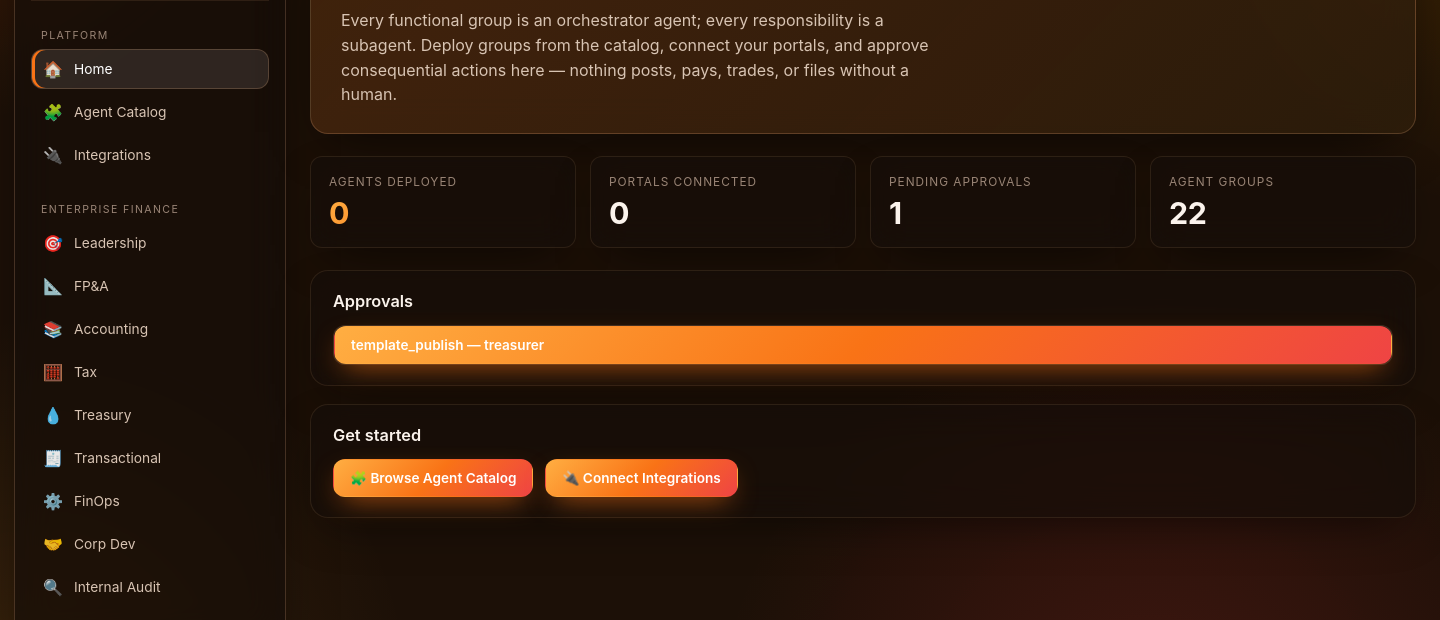
App shell › navigates to the FP&A and Trading dashboards and back home
Click the button "📐 FP&A" at (150, 286), box [31,266,269,306]
(page scrolled)
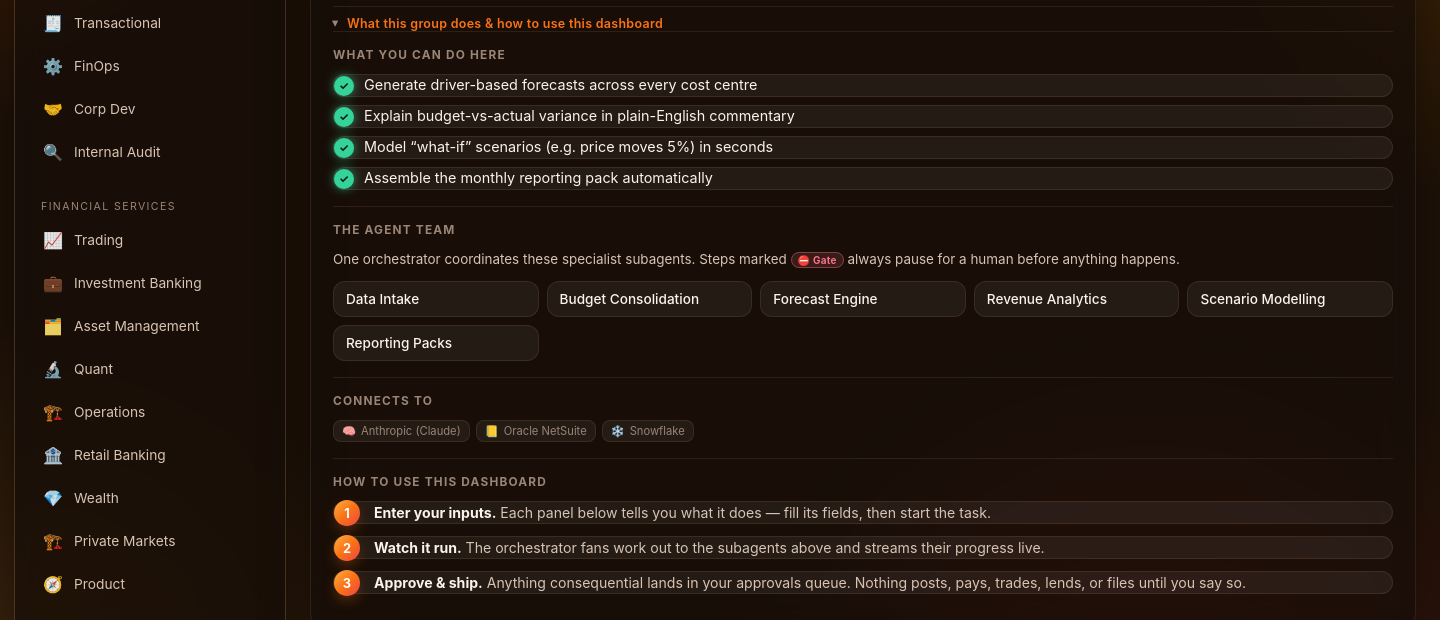
Click the button "📈 Trading" at (150, 240), box [31,220,269,260]
(page scrolled)
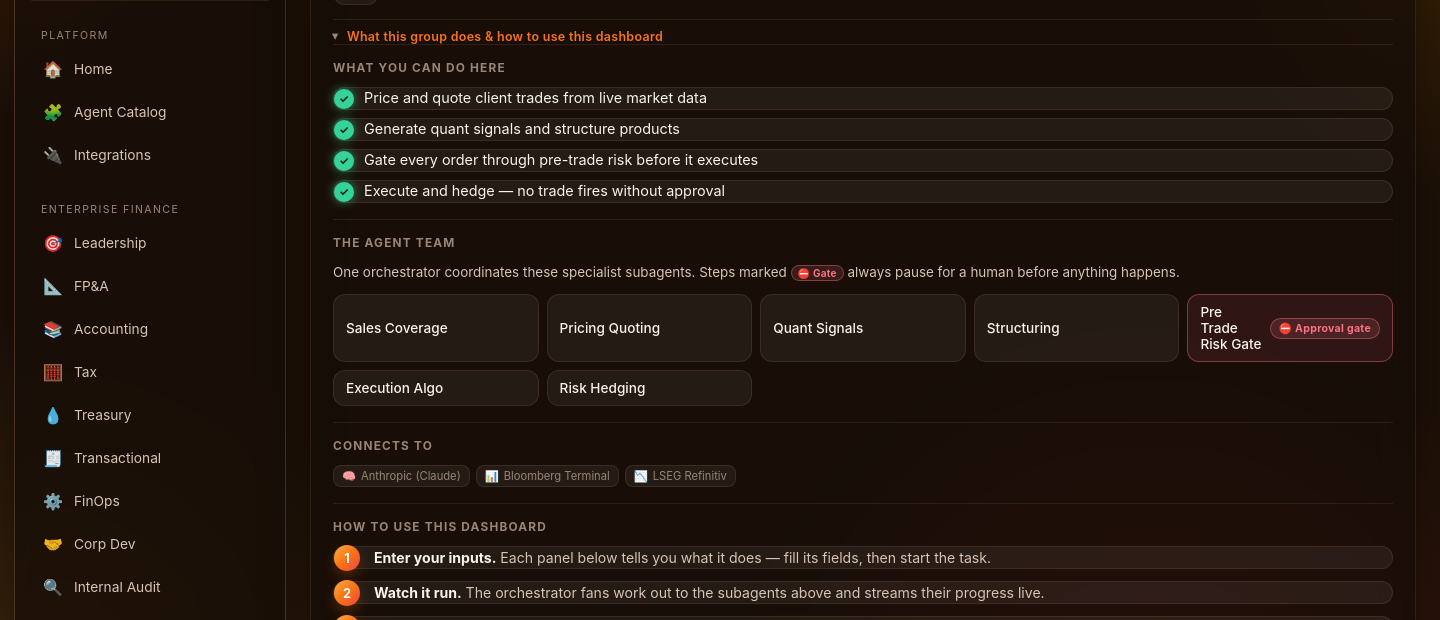
Click the button "🏠 Home" at (150, 69), box [31,49,269,89]
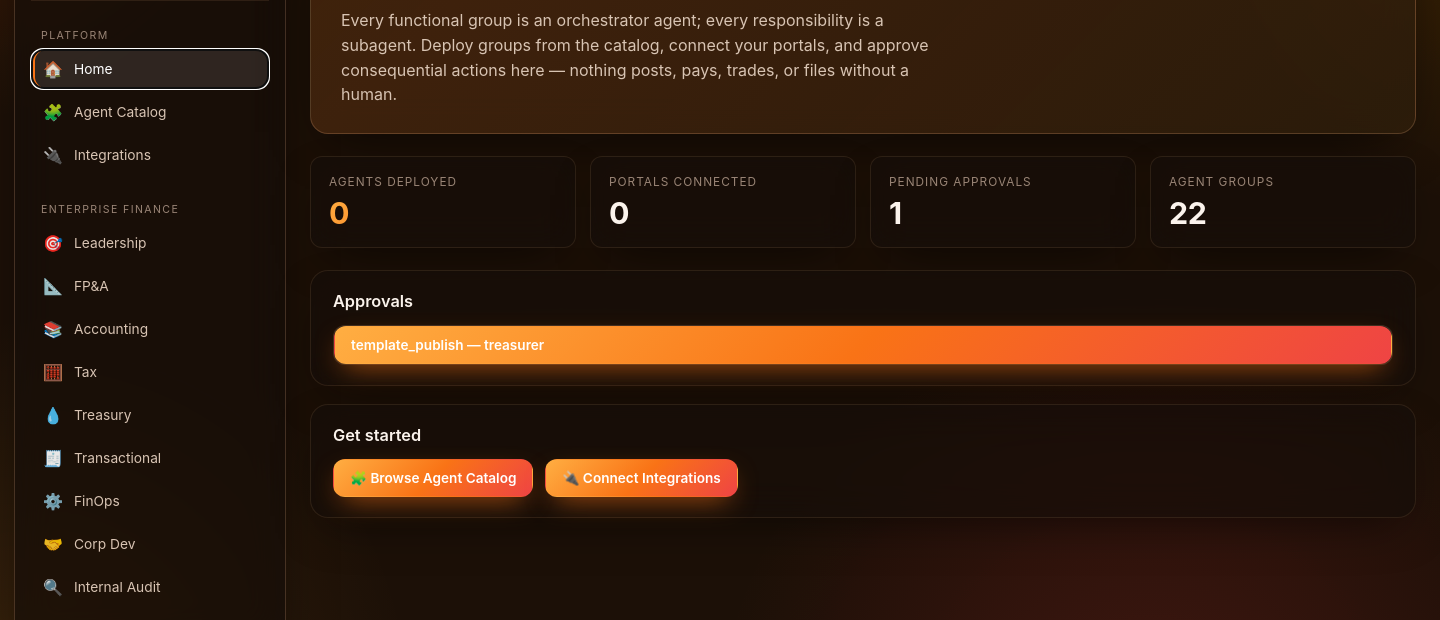
Now the element "Approvals template_publish — treasurer" is shown, box [310,270,1416,386]
